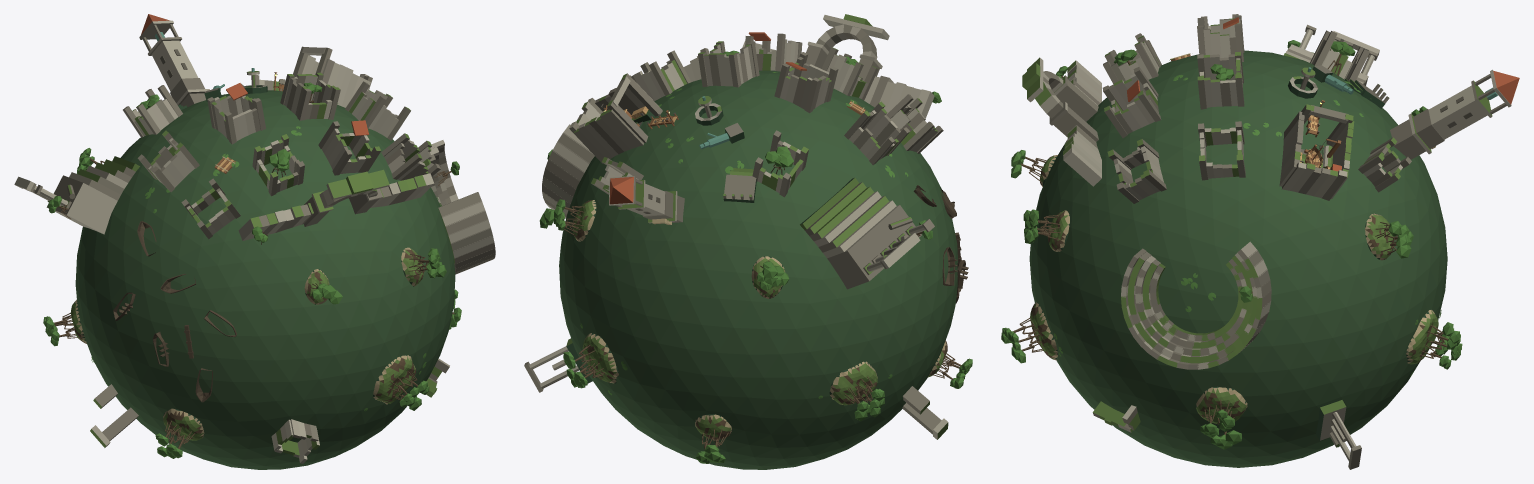
File: w_003-sunken-ruins-v1.glb
3 renders of one model, left to right at view 1: azimuth 30°, elevation 25°; view 2: azimuth 150°, elevation 25°; view 3: azimuth 270°, elevation 25°, orthographic. The views are drawn at different scales.
Visible parts, largest first — view 1: Water_Sphere, Island_temple-steps, Island_bell-tower, Island_cistern-1, Island_canal-house-6, Island_canal-house-3, Island_canal-house-7, Island_sigrid-warehouse, Island_canal-house-8, Island_gate-west, Island_canal-house-4, Island_canal-house-5 (+13 smaller); view 2: Water_Sphere, Island_temple-steps, Island_sigrid-warehouse, Island_bell-tower, Island_canal-house-6, Island_canal-house-7, Island_canal-house-5, Island_cistern-5, Island_gate-west, Island_canal-house-1, Gate_Arch, Island_canal-house-8 (+17 smaller); view 3: Water_Sphere, Island_bell-tower, Island_sigrid-warehouse, Island_canal-house-3, Island_gate-east, Island_canal-house-7, Island_cistern-1, Island_canal-house-4, Island_cistern-2, Island_cistern-3, Island_canal-house-8, Island_cistern-5 (+17 smaller).
Boxes of the visible parts, x1,y1,x2,y2 form: Water_Sphere: (75, 90, 455, 469); Island_temple-steps: (14, 156, 139, 234); Island_bell-tower: (139, 14, 209, 106); Island_cistern-1: (438, 192, 494, 258); Island_canal-house-6: (207, 83, 265, 144); Island_canal-house-3: (318, 120, 381, 175); Island_canal-house-7: (280, 72, 340, 120); Island_sigrid-warehouse: (293, 46, 372, 107); Island_canal-house-8: (345, 81, 410, 140); Island_gate-west: (238, 191, 333, 240); Island_canal-house-4: (381, 133, 440, 180); Island_canal-house-5: (137, 130, 199, 192); Water_Sphere: (559, 70, 957, 469); Island_temple-steps: (800, 178, 934, 289); Island_sigrid-warehouse: (569, 73, 662, 163); Island_bell-tower: (609, 176, 684, 223); Island_canal-house-6: (774, 52, 838, 113); Island_canal-house-7: (698, 41, 759, 87); Island_canal-house-5: (844, 101, 909, 164); Island_cistern-5: (543, 124, 594, 197); Island_gate-west: (859, 54, 934, 118); Island_canal-house-1: (886, 94, 943, 153); Gate_Arch: (816, 14, 889, 59); Island_canal-house-8: (630, 50, 691, 101); Water_Sphere: (1029, 50, 1447, 467); Island_bell-tower: (1390, 69, 1519, 159); Island_sigrid-warehouse: (1279, 104, 1354, 200); Island_canal-house-3: (1102, 67, 1161, 137); Island_gate-east: (1049, 102, 1101, 186); Island_canal-house-7: (1197, 51, 1244, 109); Island_cistern-1: (1121, 248, 1165, 318); Island_canal-house-4: (1107, 139, 1166, 203); Island_cistern-2: (1124, 303, 1184, 364); Island_cistern-3: (1167, 329, 1228, 369); Island_canal-house-8: (1198, 121, 1245, 180); Island_cistern-5: (1226, 241, 1271, 308).
Size of the model in its own units: 12.11 by 10.91 by 12.4.
